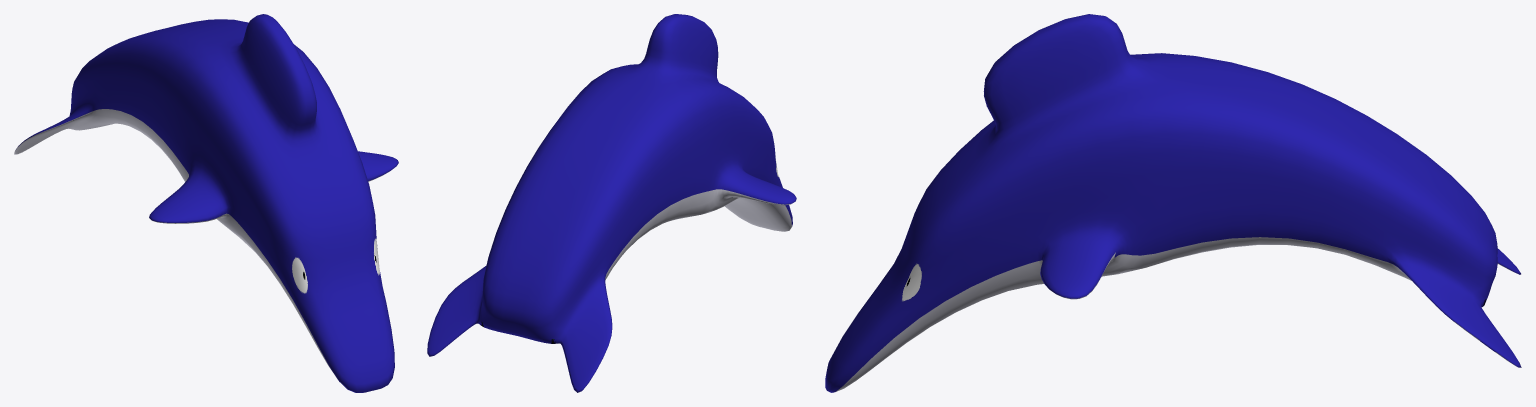
Rendered from dophinExport.FBX.
3 renders of one model, left to right at view 1: azimuth 30°, elevation 25°; view 2: azimuth 150°, elevation 25°; view 3: azimuth 270°, elevation 25°, orthographic. The views are drawn at different scales.
Parts seen in each view (by area): view 1: Box002; view 2: Box002; view 3: Box002.
Part boxes in pixels (box(x1,y1,x2,y2)): Box002: box(14, 14, 398, 392); Box002: box(427, 14, 796, 392); Box002: box(825, 14, 1521, 392).
Bounding box in the file's own units: 67.8 × 78.04 × 133.
1 material, 1 textured.
